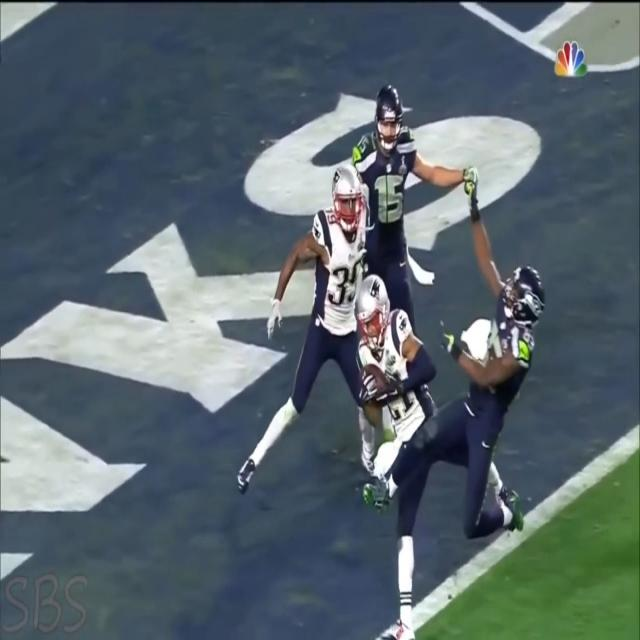football: (359, 355, 390, 404)
players: (359, 271, 479, 640), (252, 165, 377, 513), (452, 177, 546, 561), (354, 66, 430, 478)
